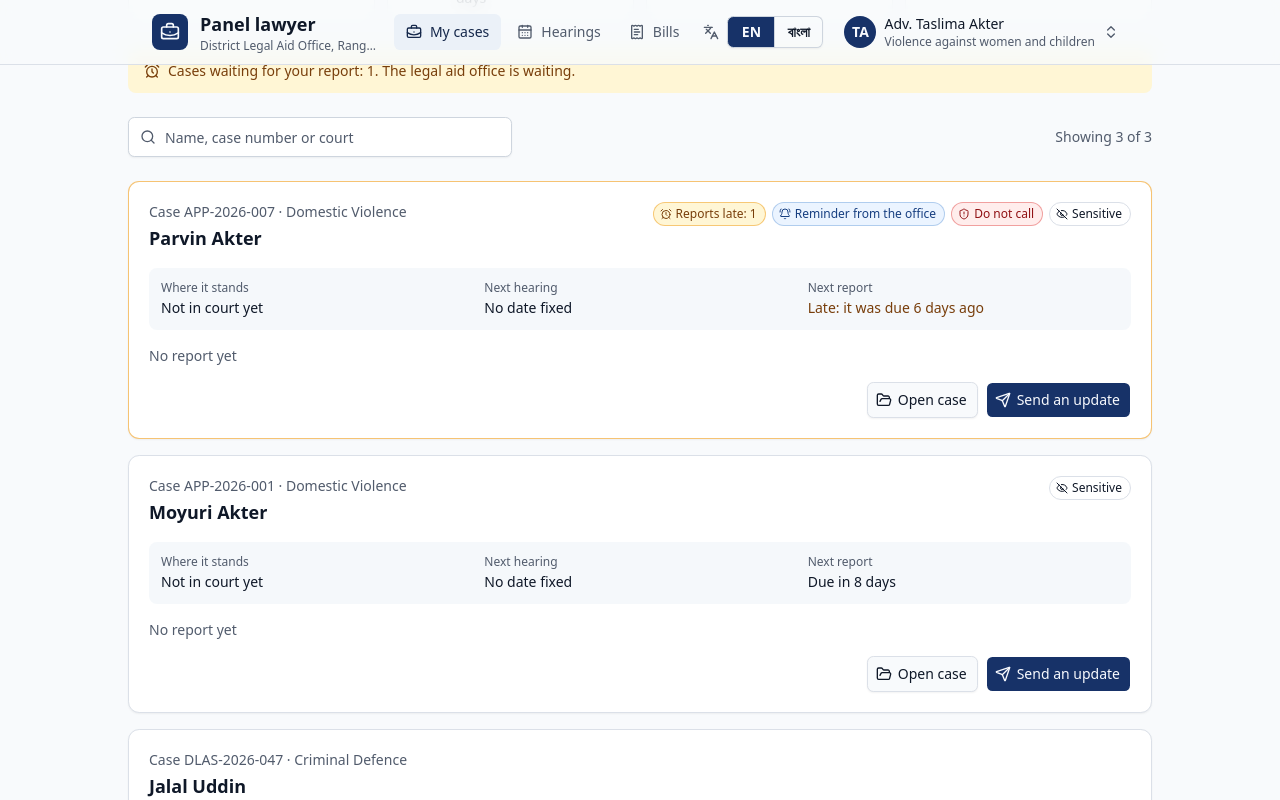
Test: with a backend (VITE_API_URL) › keeps the form open and says so when the server refuses the update
The width and height of the screenshot is (1280, 800).
(page scrolled)
Click the button with aria-label "Send an update: Parvin Akter" at (1058,400), box [986,382,1131,418]
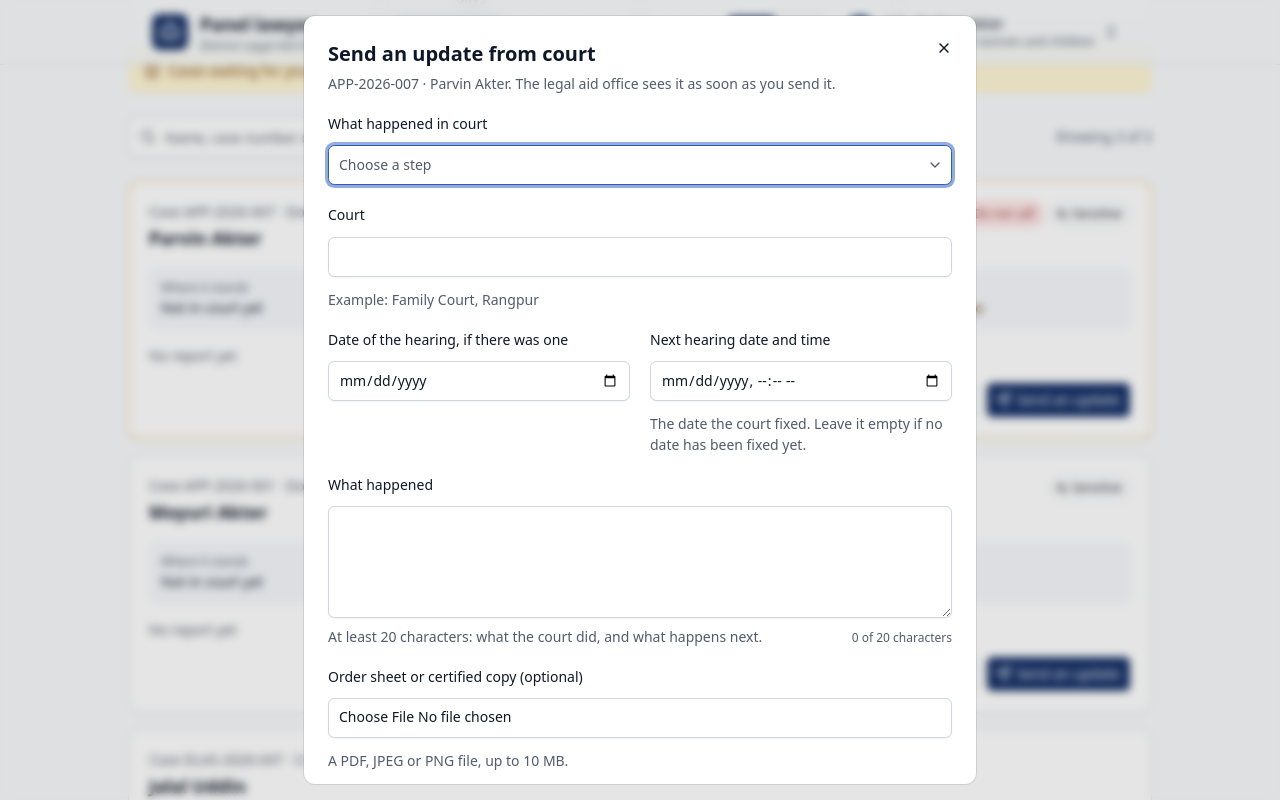
Click the dropdown named "What happened in court" at (385,165), box [328,145,952,185]
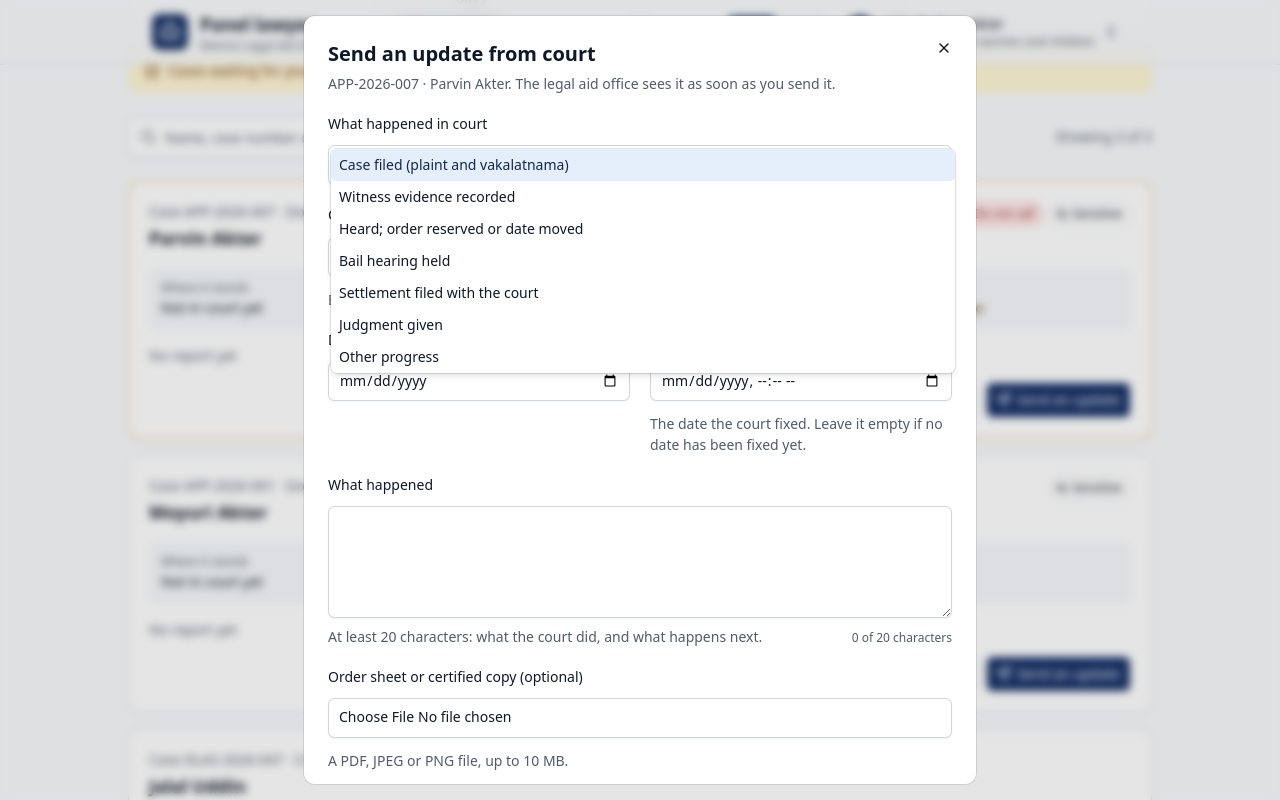
Click the option "Other progress" at (389,357), box [339,347,439,366]
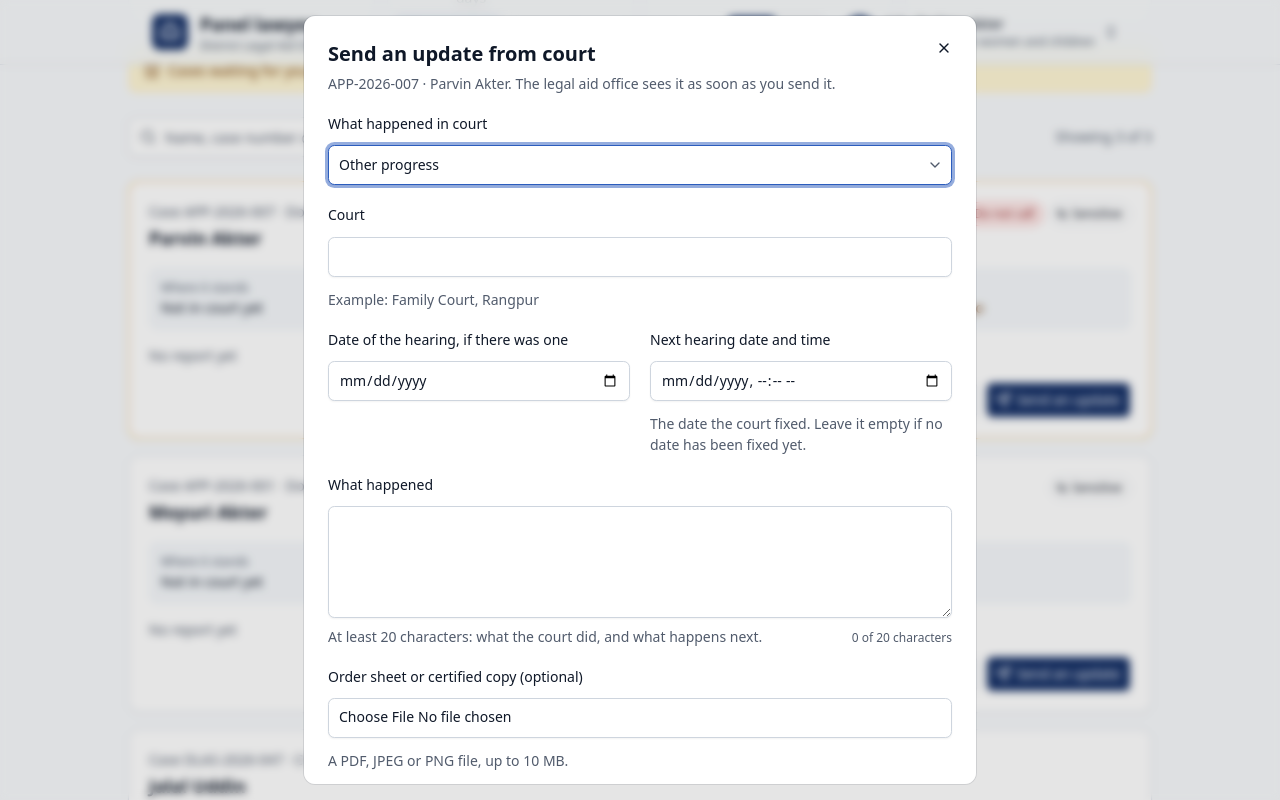
Type "Met the police about her safety today." into the text box labelled "What happened" at (640,562), box [328,506,952,618]
(page scrolled)
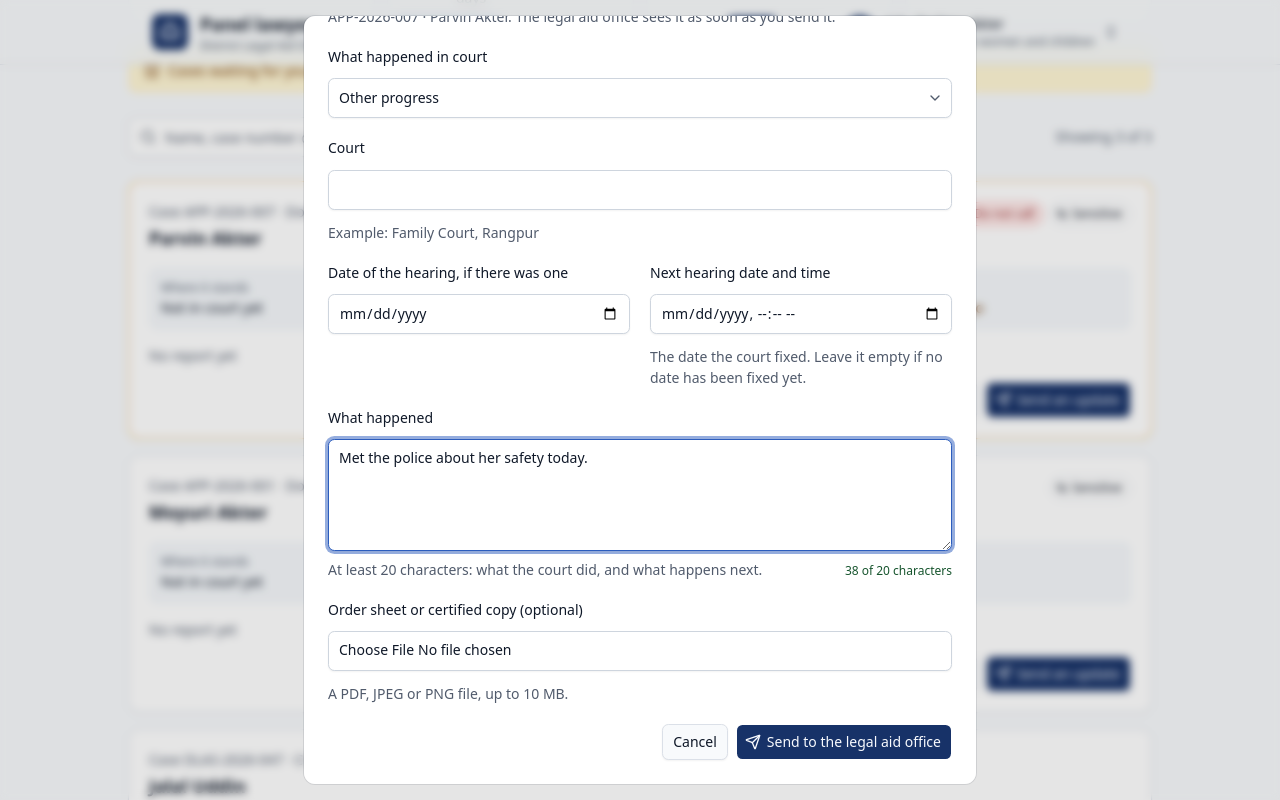
Click the button "Send to the legal aid office" at (844,742), box [736,724,952,760]
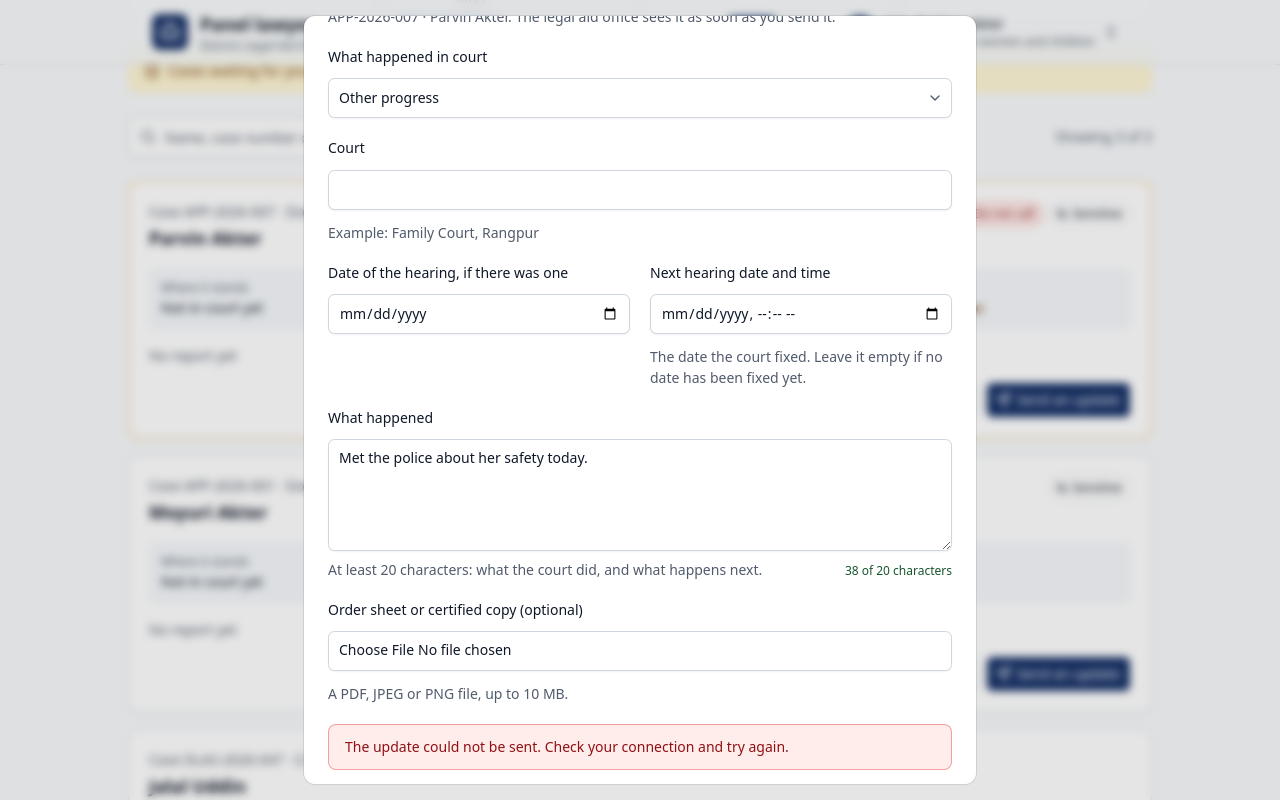
Check: the text "The update could not be sent. Check your connection and try again." is shown, box [345,737,789,756]
